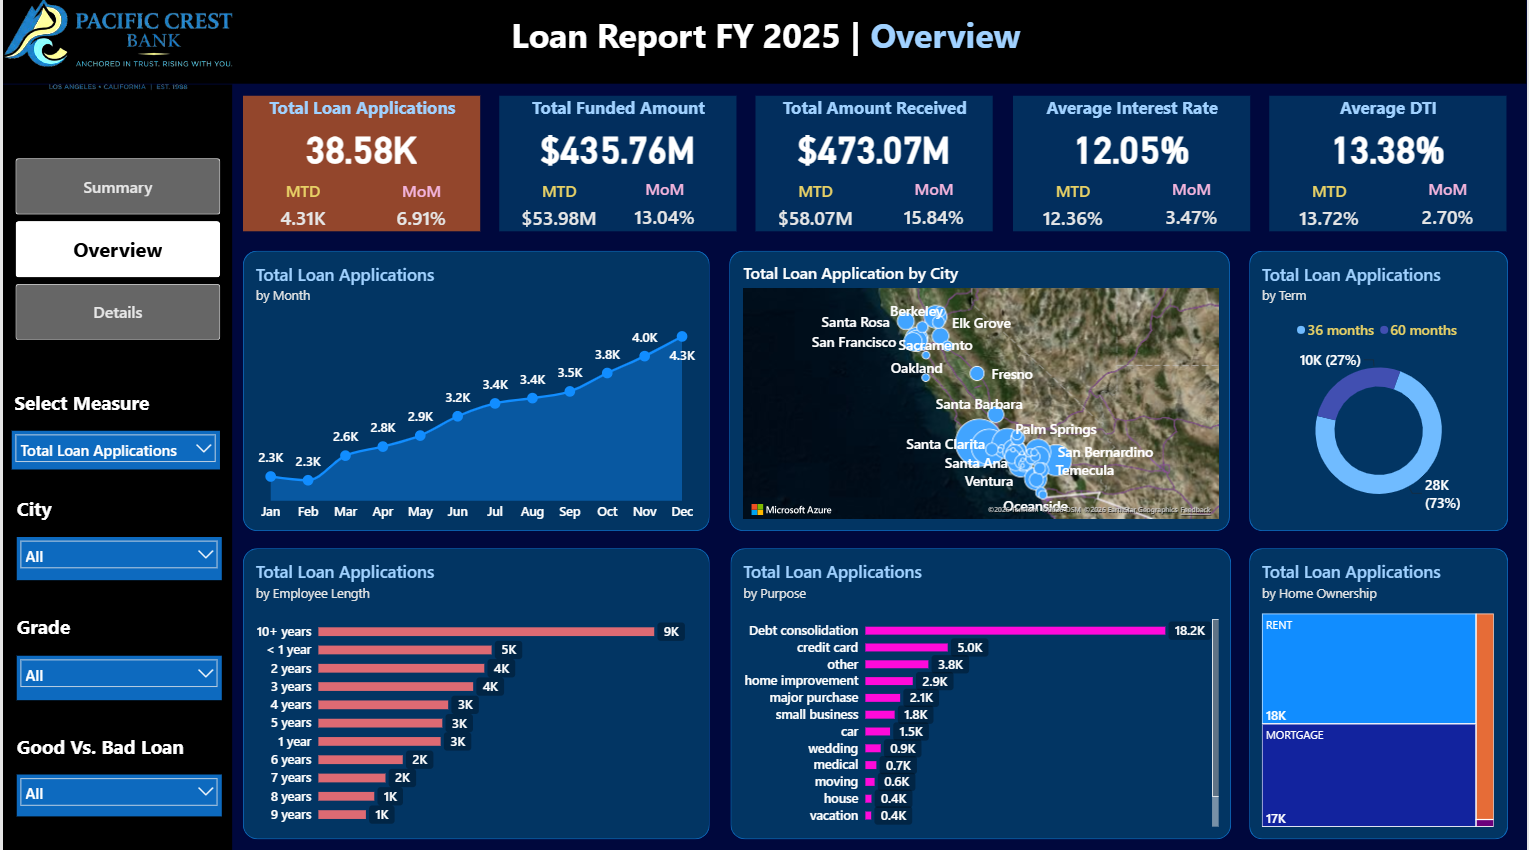

What the dashboard file says about the page in this screenshot:
{"tool":"powerbi","page":{"name":"Overview","canvas":[1920,1080],"ordinal":1},"visuals":[{"type":"shape","box":[0,110.1,289.2,970.1],"z":0},{"type":"shape","box":[302.8,124.2,298.9,170.8],"z":0,"group":"g1"},{"type":"shape","box":[625.8,124.2,298.9,170.8],"z":0,"group":"g2"},{"type":"shape","box":[949.2,124.2,298.9,170.8],"z":0,"group":"g3"},{"type":"shape","box":[1272.7,124.2,298.9,170.8],"z":0,"group":"g4"},{"type":"shape","box":[1596.2,124.2,298.9,170.8],"z":0,"group":"g5"},{"type":"shape","box":[0,0,1919.7,109.3],"z":1000},{"type":"cardVisual","fields":{"Data":["financial_loan_Year_2025.Total Loan Applications"]},"box":[302.8,149.4,298.9,79.6],"z":1000,"group":"g1"},{"type":"cardVisual","fields":{"Data":["financial_loan_Year_2025.Total Funded Amount"]},"box":[625.8,149.4,298.9,79.6],"z":1000,"group":"g2"},{"type":"cardVisual","fields":{"Data":["financial_loan_Year_2025.Total Amount Received"]},"box":[949.2,149.4,298.9,79.6],"z":1000,"group":"g3"},{"type":"cardVisual","fields":{"Data":["financial_loan_Year_2025.Average Interest Rate"]},"box":[1272.7,149.4,298.9,79.6],"z":1000,"group":"g4"},{"type":"cardVisual","fields":{"Data":["financial_loan_Year_2025.Averate DTI"]},"box":[1596.2,149.4,298.9,79.6],"z":1000,"group":"g5"},{"type":"group","id":"g1","title":"Group 1","box":[302.2,124.2,300.4,170.8],"z":2000},{"type":"textbox","box":[302.2,125,300.4,48.5],"z":2000,"group":"g1"},{"type":"textbox","box":[625.2,125,300.4,48.5],"z":2000,"group":"g2"},{"type":"textbox","box":[948.6,125,300.4,48.5],"z":2000,"group":"g3"},{"type":"textbox","box":[1272.1,125,300.4,48.5],"z":2000,"group":"g4"},{"type":"textbox","box":[1595.6,125,300.4,48.5],"z":2000,"group":"g5"},{"type":"group","id":"g2","title":"Group 1","box":[625.2,124.2,300.4,170.8],"z":3000},{"type":"cardVisual","title":"MTD","fields":{"Data":["financial_loan_Year_2025.MTD Loan Application"]},"box":[302.8,229,151.4,66],"z":3000,"group":"g1"},{"type":"cardVisual","title":"MTD","fields":{"Data":["financial_loan_Year_2025.MTD Funded Amount"]},"box":[625.8,229,151.4,66],"z":3000,"group":"g2"},{"type":"cardVisual","title":"MTD","fields":{"Data":["financial_loan_Year_2025.MTD Received Amount"]},"box":[949.2,229,151.4,66],"z":3000,"group":"g3"},{"type":"cardVisual","title":"MTD","fields":{"Data":["financial_loan_Year_2025.MTD Average Interest Rate"]},"box":[1272.7,229,151.4,66],"z":3000,"group":"g4"},{"type":"cardVisual","title":"MTD","fields":{"Data":["financial_loan_Year_2025.MTD Average DTI"]},"box":[1596.2,229,151.4,66],"z":3000,"group":"g5"},{"type":"group","id":"g3","title":"Group 1","box":[948.6,124.2,300.9,170.8],"z":4000},{"type":"cardVisual","title":"MoM","fields":{"Data":["financial_loan_Year_2025.MoM Funded Amount"]},"box":[776.2,228.6,114.5,66],"z":4000,"group":"g2"},{"type":"cardVisual","title":"MoM","fields":{"Data":["financial_loan_Year_2025.MoM Received Amount"]},"box":[1100.1,228.6,147.5,66],"z":4000,"group":"g3"},{"type":"cardVisual","title":"MoM","fields":{"Data":["financial_loan_Year_2025.MoM Average Interest Rate"]},"box":[1423.6,228.6,147.5,66],"z":4000,"group":"g4"},{"type":"cardVisual","title":"MoM","fields":{"Data":["financial_loan_Year_2025.MoM Average DTI"]},"box":[1747.1,228.6,147.5,66],"z":4000,"group":"g5"},{"type":"cardVisual","title":"MoM","fields":{"Data":["financial_loan_Year_2025.MoM Loan Application"]},"box":[454.2,229,147.5,66],"z":4000,"group":"g1"},{"type":"group","id":"g4","title":"Group 1","box":[1272.1,124.2,300.9,170.8],"z":5000},{"type":"group","id":"g5","title":"Group 1","box":[1595.6,124.2,300.9,170.8],"z":6000},{"type":"textbox","box":[590.1,17.5,741.5,73.8],"z":7000},{"type":"slicer","fields":{"Values":["financial_loan_Year_2025.address_city"]},"box":[17.5,680.8,258.2,54.4],"z":8000},{"type":"textbox","box":[17.5,628.9,258.2,52.4],"z":9000},{"type":"slicer","fields":{"Values":["financial_loan_Year_2025.grade"]},"box":[17.5,829.5,258.2,56.3],"z":10000},{"type":"textbox","box":[17.5,776.4,258.2,52.4],"z":11000},{"type":"textbox","box":[17.5,927.7,258.2,52.4],"z":12000},{"type":"slicer","fields":{"Values":["financial_loan_Year_2025.Good Loan Vs Bad Loan"]},"box":[17.5,980.2,258.2,52.4],"z":13000},{"type":"shape","box":[302.8,320.3,588.1,353.3],"z":14000},{"type":"shape","box":[915.2,320.3,630.9,353.3],"z":15000},{"type":"shape","box":[1570.3,320.3,326.1,353.3],"z":16000},{"type":"azureMap","title":"Total Loan Application by City","fields":{"Size":["financial_loan_Year_2025.Total Loan Applications"],"Category":["financial_loan_Year_2025.address_city"],"Y":["Avg(financial_loan_Year_2025.latitude)"],"X":["Avg(financial_loan_Year_2025.longitude)"]},"box":[916.2,320.3,630.9,353.3],"z":17000},{"type":"areaChart","fields":{"Y":["financial_loan_Year_2025.Total Loan Applications"],"Category":["Date Table.Month"]},"box":[302.8,320.3,588.1,361],"z":18000},{"type":"slicer","fields":{"Values":["Select Measure.Select Measure"]},"box":[11.6,547.4,262,48.5],"z":19000},{"type":"textbox","box":[13.6,495,258.2,52.4],"z":20000},{"type":"donutChart","fields":{"Y":["financial_loan_Year_2025.Total Loan Applications"],"Category":["financial_loan_Year_2025.term"]},"box":[1570.3,320.3,326.1,353.3],"z":21000},{"type":"shape","box":[302.8,694.9,588.1,366.9],"z":22000},{"type":"barChart","fields":{"Y":["financial_loan_Year_2025.Total Loan Applications"],"Category":["financial_loan_Year_2025.emp_length"]},"box":[302.8,694.9,588.1,366.9],"z":23000},{"type":"shape","box":[916.2,694.9,630.9,366.9],"z":24000},{"type":"barChart","fields":{"Y":["financial_loan_Year_2025.Total Loan Applications"],"Category":["financial_loan_Year_2025.purpose"]},"box":[916.2,694.9,630.9,366.9],"z":25000},{"type":"shape","box":[1570.3,694.9,326.1,366.9],"z":26000},{"type":"treemap","fields":{"Values":["financial_loan_Year_2025.Total Loan Applications"],"Group":["financial_loan_Year_2025.home_ownership"]},"box":[1570.3,694.9,324.2,366.9],"z":27000},{"type":"image","box":[0,0,289.2,124.2],"z":28000},{"type":"pageNavigator","box":[15.5,203.8,258.2,231],"z":29000}]}

Visuals, with their boxes in screenshot pixels (x1, y1, x2, y2), scaled from the page's 1920x1080 canvas onto the 1529x850 screenshot:
shape: [0, 87, 230, 849]
shape: [241, 98, 479, 232]
shape: [498, 98, 736, 232]
shape: [756, 98, 994, 232]
shape: [1014, 98, 1252, 232]
shape: [1271, 98, 1509, 232]
shape: [0, 0, 1528, 86]
cardVisual - financial_loan_Year_2025.Total Loan Applications: [241, 118, 479, 180]
cardVisual - financial_loan_Year_2025.Total Funded Amount: [498, 118, 736, 180]
cardVisual - financial_loan_Year_2025.Total Amount Received: [756, 118, 994, 180]
cardVisual - financial_loan_Year_2025.Average Interest Rate: [1014, 118, 1252, 180]
cardVisual - financial_loan_Year_2025.Averate DTI: [1271, 118, 1509, 180]
"Group 1" group: [241, 98, 480, 232]
textbox: [241, 98, 480, 137]
textbox: [498, 98, 737, 137]
textbox: [755, 98, 995, 137]
textbox: [1013, 98, 1252, 137]
textbox: [1271, 98, 1510, 137]
"Group 1" group: [498, 98, 737, 232]
"MTD" cardVisual: [241, 180, 362, 232]
"MTD" cardVisual: [498, 180, 619, 232]
"MTD" cardVisual: [756, 180, 876, 232]
"MTD" cardVisual: [1014, 180, 1134, 232]
"MTD" cardVisual: [1271, 180, 1392, 232]
"Group 1" group: [755, 98, 995, 232]
"MoM" cardVisual: [618, 180, 709, 232]
"MoM" cardVisual: [876, 180, 994, 232]
"MoM" cardVisual: [1134, 180, 1251, 232]
"MoM" cardVisual: [1391, 180, 1509, 232]
"MoM" cardVisual: [362, 180, 479, 232]
"Group 1" group: [1013, 98, 1253, 232]
"Group 1" group: [1271, 98, 1510, 232]
textbox: [470, 14, 1060, 72]
slicer - financial_loan_Year_2025.address_city: [14, 536, 220, 579]
textbox: [14, 495, 220, 536]
slicer - financial_loan_Year_2025.grade: [14, 653, 220, 697]
textbox: [14, 611, 220, 652]
textbox: [14, 730, 220, 771]
slicer - financial_loan_Year_2025.Good Loan Vs Bad Loan: [14, 771, 220, 813]
shape: [241, 252, 709, 530]
shape: [729, 252, 1231, 530]
shape: [1251, 252, 1510, 530]
"Total Loan Application by City" azureMap: [730, 252, 1232, 530]
areaChart - financial_loan_Year_2025.Total Loan Applications x Date Table.Month: [241, 252, 709, 536]
slicer - Select Measure.Select Measure: [9, 431, 218, 469]
textbox: [11, 390, 216, 431]
donutChart - financial_loan_Year_2025.Total Loan Applications x financial_loan_Year_2025.term: [1251, 252, 1510, 530]
shape: [241, 547, 709, 836]
barChart - financial_loan_Year_2025.Total Loan Applications x financial_loan_Year_2025.emp_length: [241, 547, 709, 836]
shape: [730, 547, 1232, 836]
barChart - financial_loan_Year_2025.Total Loan Applications x financial_loan_Year_2025.purpose: [730, 547, 1232, 836]
shape: [1251, 547, 1510, 836]
treemap - financial_loan_Year_2025.Total Loan Applications x financial_loan_Year_2025.home_ownership: [1251, 547, 1509, 836]
image: [0, 0, 230, 98]
pageNavigator: [12, 160, 218, 342]
